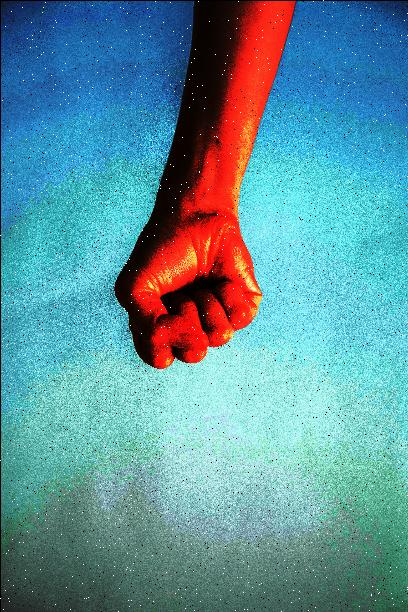Rock: (105, 201, 268, 373)
